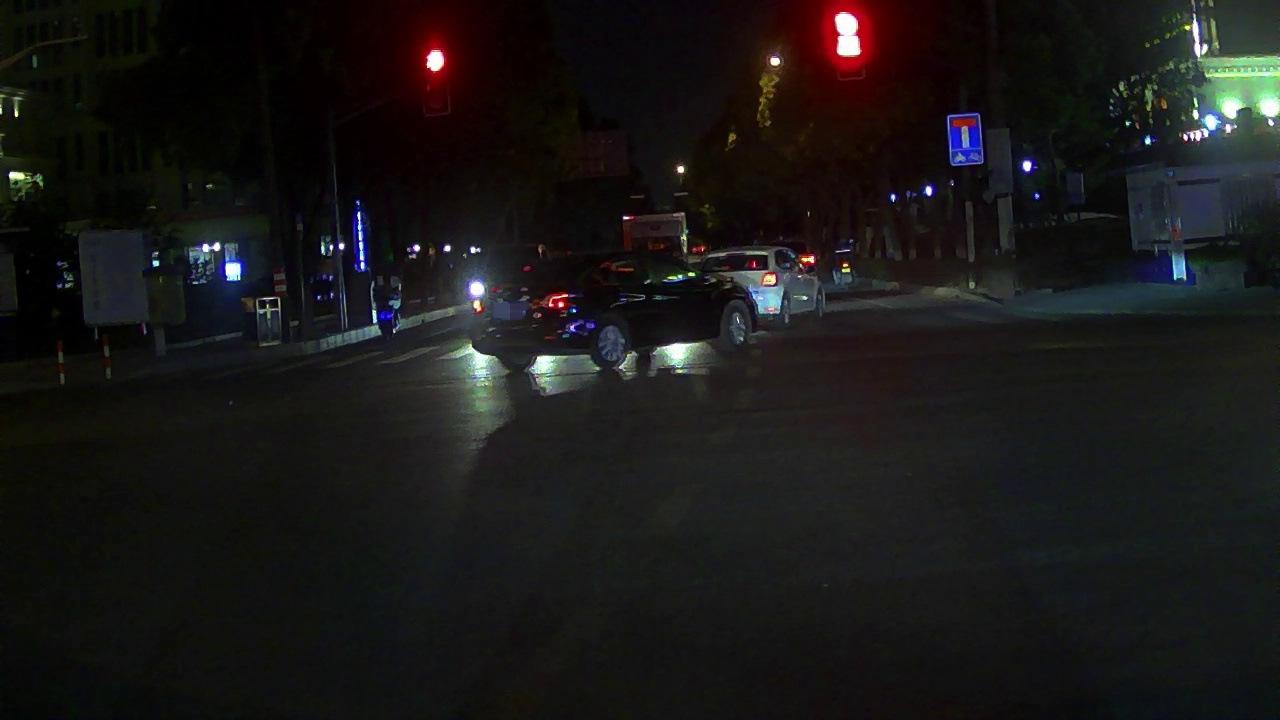traffic_light: (826, 7, 865, 78), (421, 40, 448, 102)
